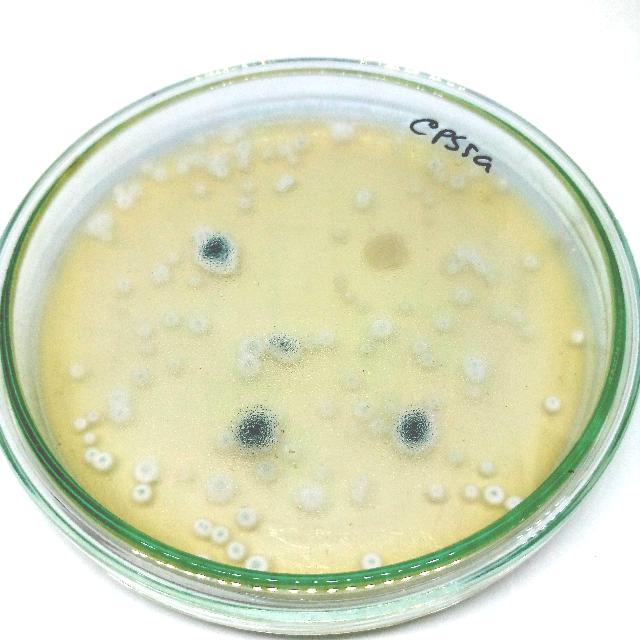colony: (392, 404, 441, 458), (232, 404, 278, 456), (192, 231, 240, 277), (362, 235, 412, 271), (290, 480, 330, 518), (270, 331, 304, 364), (205, 475, 237, 505), (326, 116, 356, 148), (132, 454, 164, 482), (459, 356, 488, 382), (345, 481, 373, 507), (128, 481, 156, 505), (252, 458, 280, 482), (367, 316, 395, 340), (358, 551, 384, 575), (482, 482, 508, 506), (186, 311, 210, 337), (516, 248, 542, 272), (244, 552, 272, 574), (238, 355, 262, 379), (239, 334, 265, 356), (237, 505, 260, 529), (541, 393, 565, 415), (350, 188, 374, 210), (162, 352, 184, 376), (224, 540, 246, 562), (352, 397, 374, 419), (339, 370, 363, 390), (356, 338, 376, 362), (452, 286, 473, 308), (461, 481, 483, 501), (566, 326, 588, 346), (192, 518, 212, 540), (150, 264, 170, 286), (191, 224, 213, 244), (213, 432, 235, 452), (434, 314, 456, 334), (92, 452, 114, 472), (109, 388, 131, 408), (477, 457, 498, 477), (110, 405, 130, 425), (210, 524, 230, 544), (113, 278, 133, 298), (448, 172, 468, 192), (416, 351, 436, 371), (507, 305, 527, 325), (317, 329, 337, 349), (465, 160, 485, 180), (446, 444, 464, 466), (426, 479, 446, 498), (112, 195, 134, 212), (506, 492, 524, 512), (130, 366, 150, 384), (164, 246, 184, 264), (152, 164, 170, 184), (134, 320, 154, 338), (496, 175, 514, 195), (418, 190, 438, 208), (485, 266, 503, 286), (174, 160, 192, 180), (423, 156, 445, 172), (66, 360, 85, 378), (96, 210, 115, 228), (329, 226, 348, 244), (83, 407, 101, 425), (186, 270, 204, 288), (236, 196, 254, 214), (192, 179, 210, 197), (410, 335, 428, 353), (164, 310, 182, 328), (468, 254, 486, 272), (235, 156, 255, 172), (128, 182, 144, 200), (452, 244, 468, 262), (234, 138, 252, 154), (276, 142, 294, 158), (292, 135, 310, 151), (96, 228, 114, 244), (82, 446, 100, 462), (444, 260, 461, 276), (213, 164, 230, 180), (230, 124, 247, 140), (82, 430, 98, 446), (138, 160, 154, 176), (192, 130, 208, 146), (87, 219, 103, 235), (190, 154, 208, 168), (429, 398, 445, 412), (72, 416, 88, 430), (241, 179, 255, 195), (262, 147, 276, 163), (274, 180, 288, 194), (222, 132, 236, 146), (282, 174, 296, 188)
